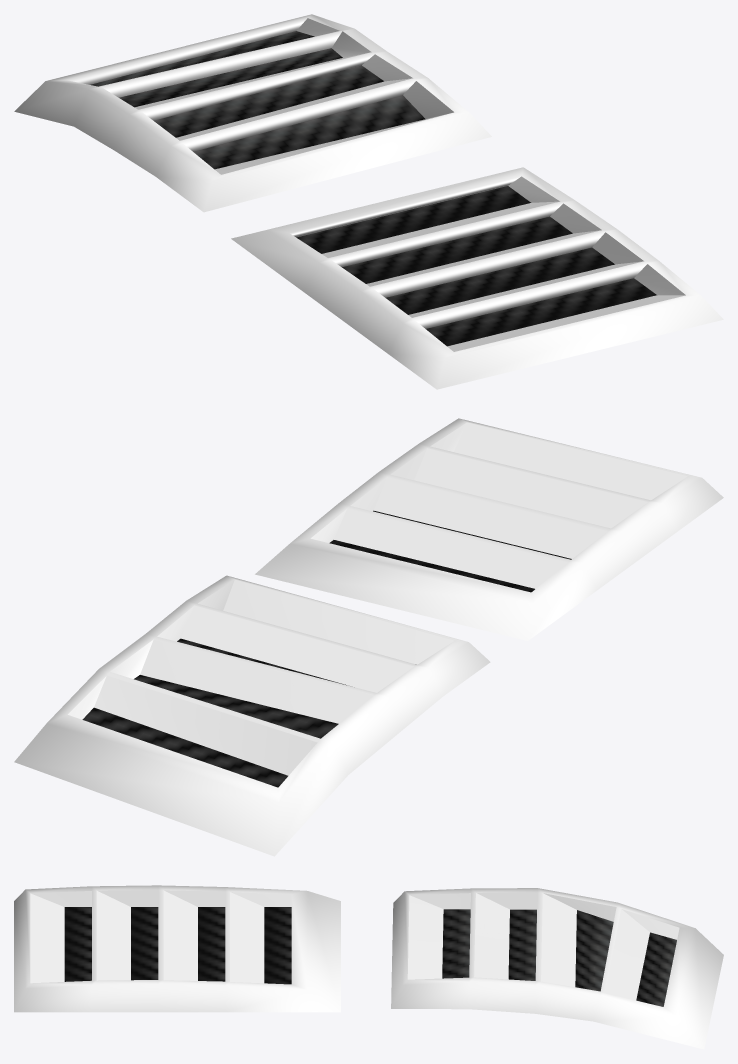
The model's file is bntl_b_sq.glb.
3 renders of one model, top to bottom at view 1: azimuth 30°, elevation 25°; view 2: azimuth 150°, elevation 25°; view 3: azimuth 270°, elevation 25°, orthographic. The views are drawn at different scales.
Visible parts, largest first — view 1: bntl_b_sq, bntl_b_sq_dam; view 2: bntl_b_sq_dam, bntl_b_sq; view 3: bntl_b_sq, bntl_b_sq_dam.
Boxes of the visible parts, x1,y1,x2,y2 form: bntl_b_sq: (231,167,723,389); bntl_b_sq_dam: (14,14,491,212); bntl_b_sq_dam: (14,575,490,856); bntl_b_sq: (255,418,723,640); bntl_b_sq: (14,885,340,1012); bntl_b_sq_dam: (391,888,723,1049).
Size of the model in its own units: 0.4014 by 0.1107 by 1.
2 materials, 2 textured.
